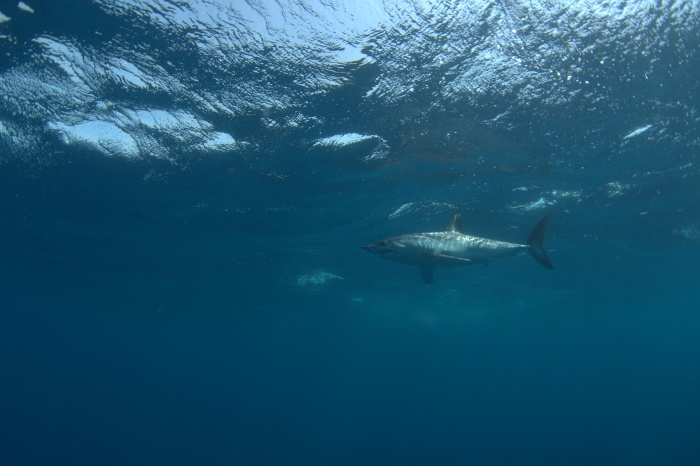Mako: (355, 200, 565, 297)
